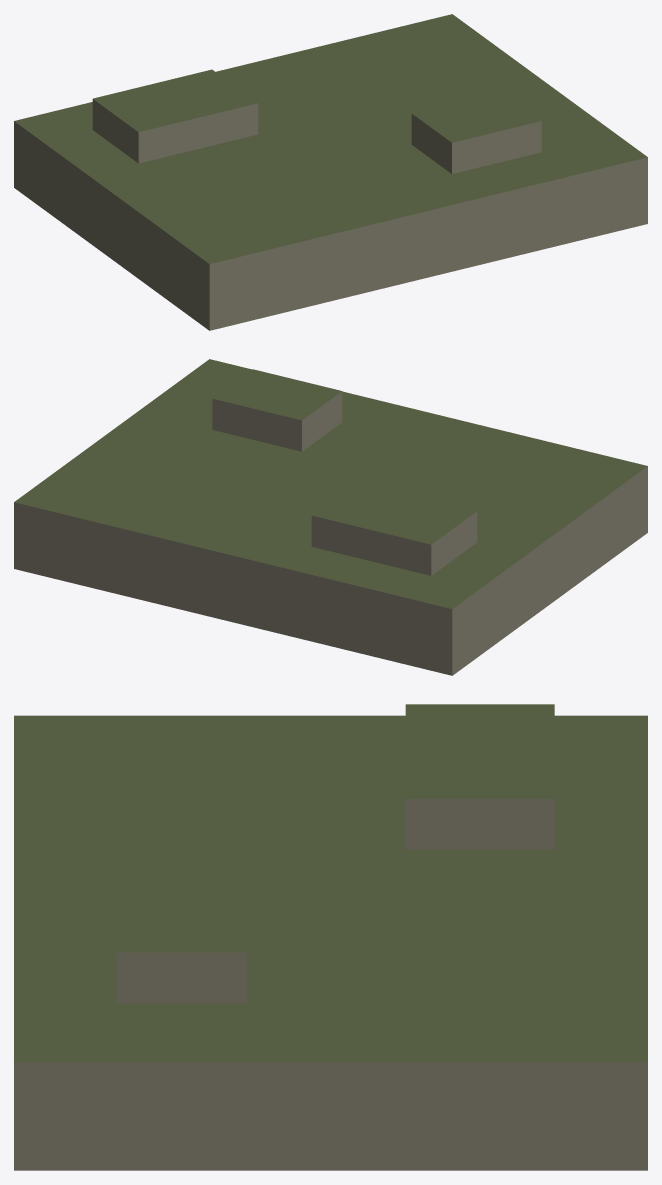
The model's file is ruin-acropolis.far-facades-v1.lod2.glb.
The picture shows the model from 3 angles, top to bottom: view 1: azimuth 30°, elevation 25°; view 2: azimuth 150°, elevation 25°; view 3: azimuth 270°, elevation 25°; orthographic projection. The views are drawn at different scales.
Parts seen in each view (by area): view 1: ruin-acropolis; view 2: ruin-acropolis; view 3: ruin-acropolis.
Boxes of the visible parts, <box> form: ruin-acropolis: <box>14,14,647,330</box>; ruin-acropolis: <box>14,359,647,675</box>; ruin-acropolis: <box>14,704,647,1170</box>.
Bounding box in the file's own units: 44 × 9.4 × 34.
